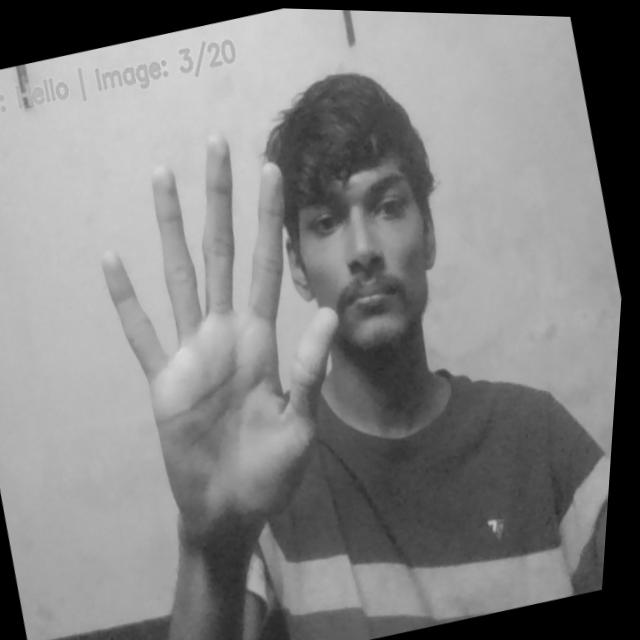Hello: (62, 108, 406, 566)
